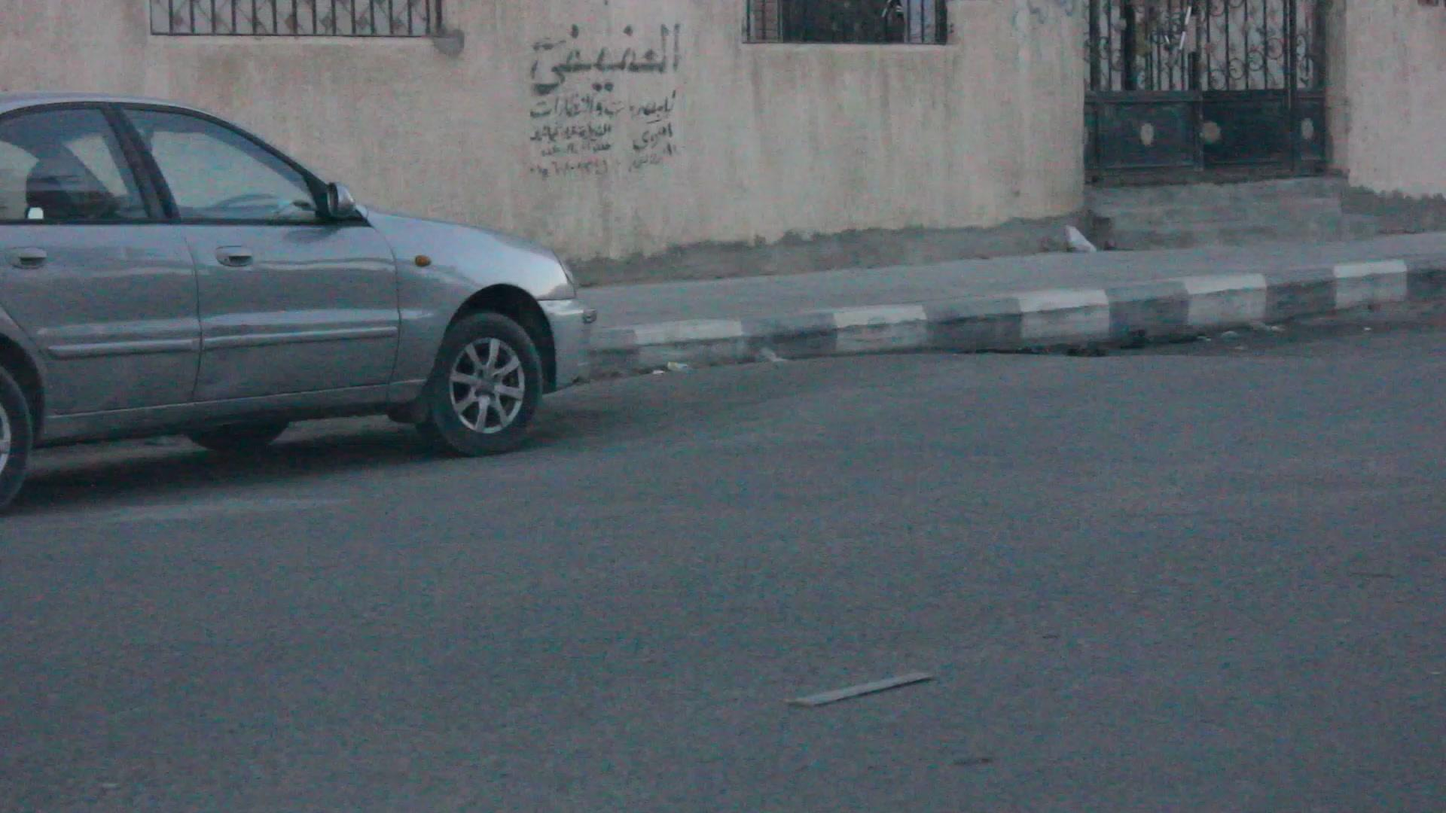Bump: (557, 340, 1445, 483)
